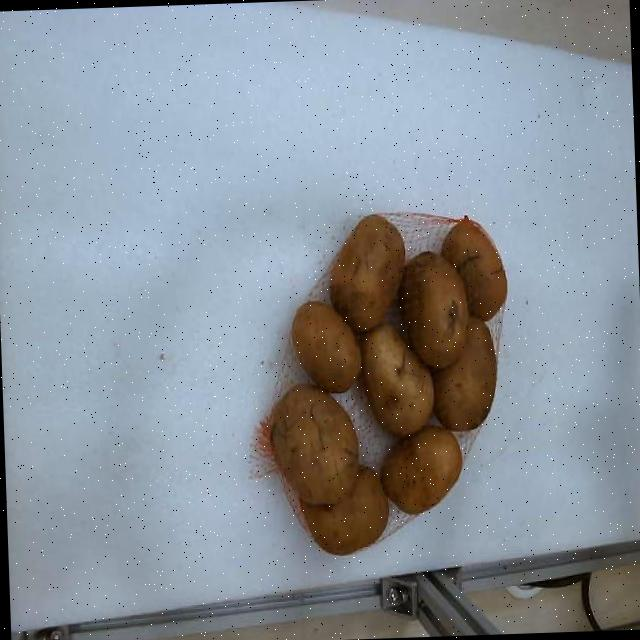potato: (271, 384, 357, 502), (330, 215, 405, 329), (399, 251, 469, 366), (360, 326, 432, 436), (300, 465, 387, 553), (432, 316, 497, 429), (381, 426, 462, 512), (442, 217, 506, 319), (291, 300, 361, 392)
